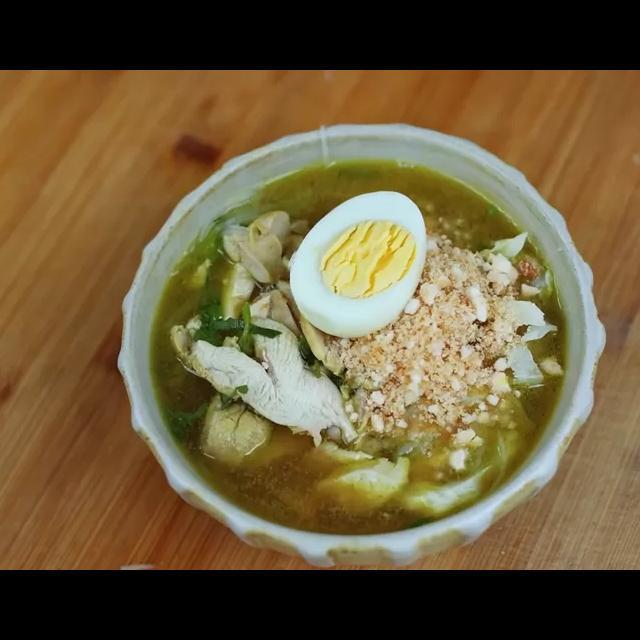Soto: (125, 140, 594, 536)
